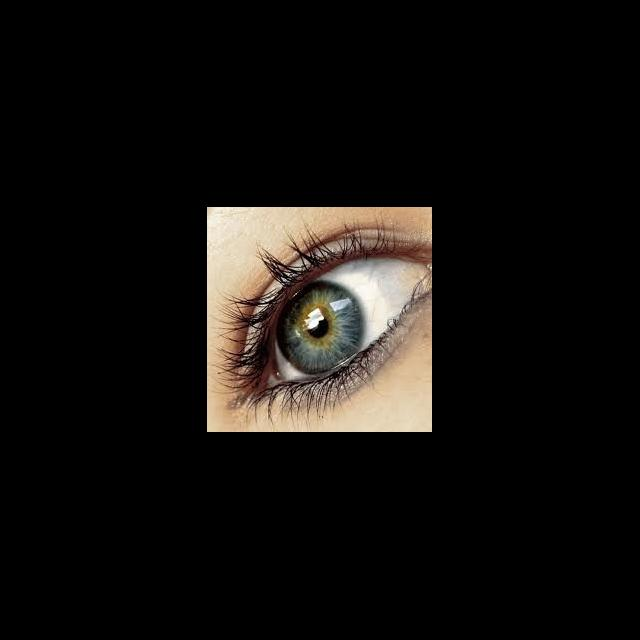eye: (257, 255, 430, 388)
iris: (275, 280, 363, 373)
